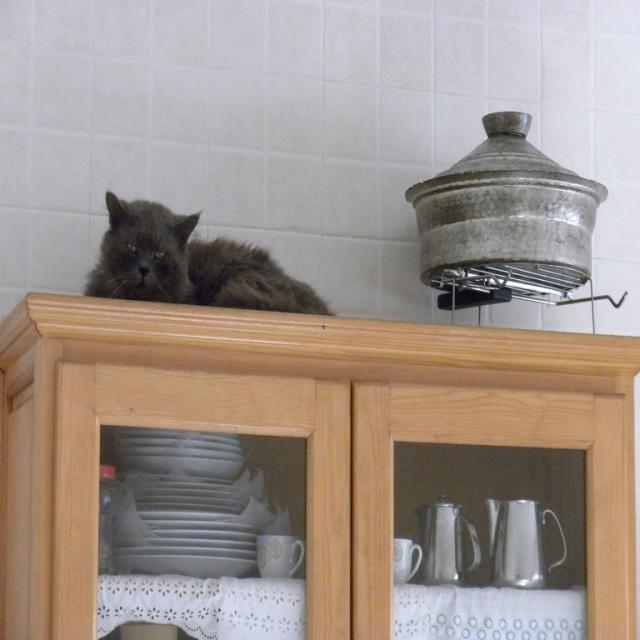Cat: (82, 190, 339, 314)
